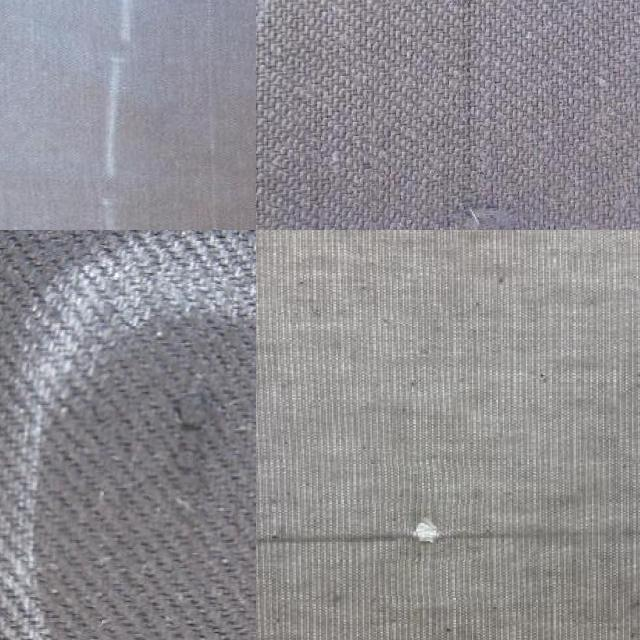Thread_other: (370, 0, 595, 230), (102, 326, 256, 640), (165, 0, 256, 230)
seam: (375, 466, 486, 596)
